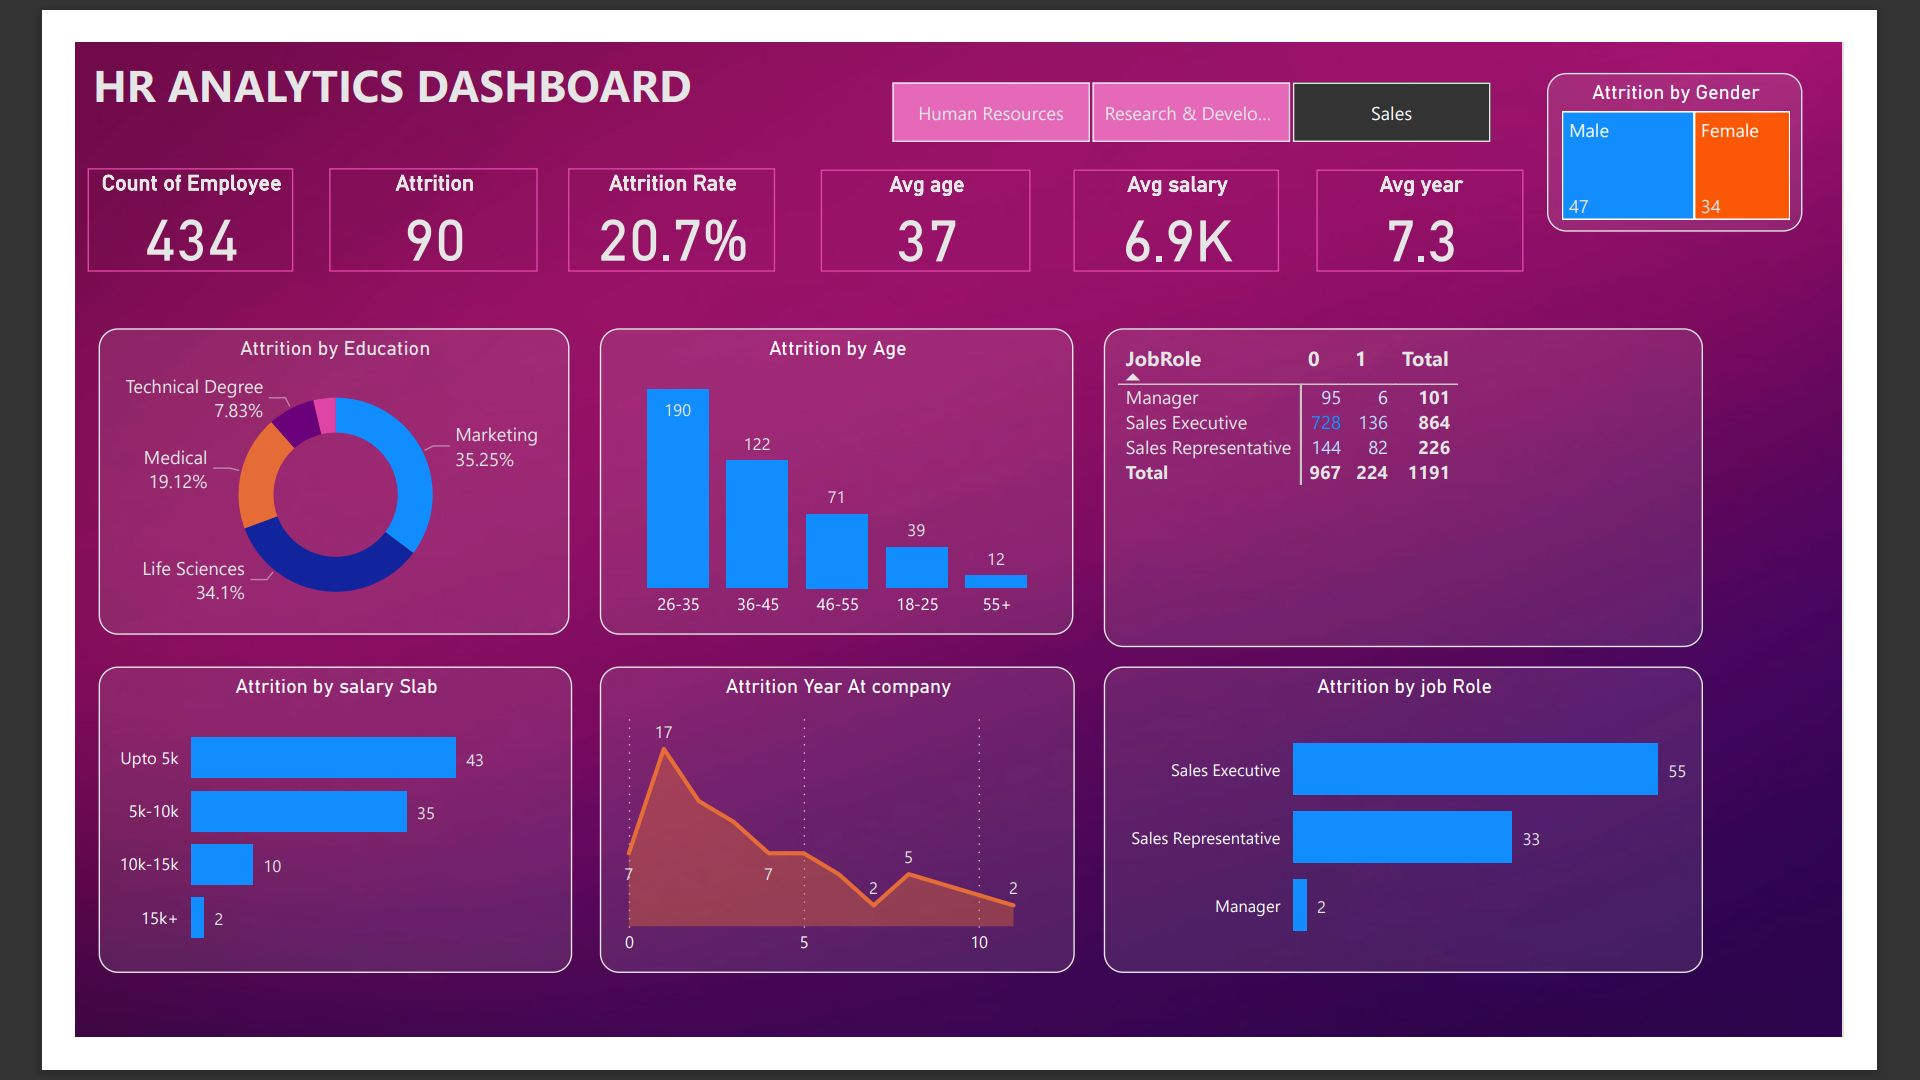

The page's visual inventory and layout, read from the dashboard file:
{"tool":"powerbi","page":{"name":"Page 1","canvas":[1280,720],"ordinal":0},"visuals":[{"type":"card","title":"Count of Employee","fields":{"Values":["Sum(HR_Analytics.EmployeeCount)"]},"box":[8.9,88,149.5,74.8],"z":0},{"type":"card","title":"Attrition","fields":{"Values":["Sum(HR_Analytics.Attrition count)"]},"box":[183.8,88,150.8,74.8],"z":1000},{"type":"card","title":"Attrition Rate","fields":{"Values":["HR_Analytics.AttritionRate"]},"box":[357.5,88,149.5,74.8],"z":2000},{"type":"card","title":"Avg age ","fields":{"Values":["Avg(HR_Analytics.Age)"]},"box":[539.8,88.6,152,73.9],"z":3000},{"type":"donutChart","title":"Attrition by Education","fields":{"Category":["HR_Analytics.EducationField"],"Y":["CountNonNull(HR_Analytics.Attrition)"]},"box":[16.7,203.8,341.3,221.9],"z":4000},{"type":"columnChart","title":"Attrition by Age","fields":{"Y":["CountNonNull(HR_Analytics.Attrition)"],"Category":["HR_Analytics.AgeGroup"]},"box":[379.7,203.8,343.7,221.9],"z":5000},{"type":"card","title":"Avg salary","fields":{"Values":["Avg(HR_Analytics.MonthlyIncome)"]},"box":[723.1,88.6,149.2,73.9],"z":6000},{"type":"card","title":"Avg year","fields":{"Values":["Avg(HR_Analytics.YearsAtCompany)"]},"box":[899.3,88.6,149.2,73.9],"z":7000},{"type":"pivotTable","fields":{"Rows":["HR_Analytics.JobRole"],"Values":["Sum(HR_Analytics.JobSatisfaction)"],"Columns":["HR_Analytics.Attrition count"]},"box":[745.3,203.8,434.2,230.4],"z":7001},{"type":"barChart","title":"Attrition by salary Slab","fields":{"Category":["HR_Analytics.SalarySlab"],"Y":["Sum(HR_Analytics.Attrition count)"]},"box":[16.7,448.6,343.7,221.9],"z":7002},{"type":"barChart","title":"Attrition by job Role","fields":{"Y":["Sum(HR_Analytics.Attrition count)"],"Category":["HR_Analytics.JobRole"]},"box":[745.3,448.6,434.2,221.9],"z":7003},{"type":"areaChart","title":"Attrition Year At company","fields":{"Category":["HR_Analytics.YearsAtCompany"],"Y":["Sum(HR_Analytics.Attrition count)"]},"box":[379.9,448.6,343.7,221.9],"z":7004},{"type":"treemap","title":"Attrition by Gender","fields":{"Group":["HR_Analytics.Gender"],"Values":["Sum(HR_Analytics.Attrition count)"]},"box":[1066.1,18.1,184.5,115.8],"z":7005},{"type":"slicer","fields":{"Values":["HR_Analytics.Department"]},"box":[565.6,18.1,483.6,57.9],"z":7006},{"type":"textbox","box":[8.4,0,455.9,67.5],"z":7007}]}

Visuals, with their boxes in screenshot pixels (x1, y1, x2, y2), scaled from the page's 1280x720 canvas onto the 1920x1080 screenshot:
"Count of Employee" card: Rect(13, 132, 238, 244)
"Attrition" card: Rect(276, 132, 502, 244)
"Attrition Rate" card: Rect(536, 132, 760, 244)
"Avg age " card: Rect(810, 133, 1038, 244)
"Attrition by Education" donutChart: Rect(25, 306, 537, 639)
"Attrition by Age" columnChart: Rect(570, 306, 1085, 639)
"Avg salary" card: Rect(1085, 133, 1308, 244)
"Avg year" card: Rect(1349, 133, 1573, 244)
pivotTable - HR_Analytics.JobRole x Sum(HR_Analytics.JobSatisfaction): Rect(1118, 306, 1769, 651)
"Attrition by salary Slab" barChart: Rect(25, 673, 541, 1006)
"Attrition by job Role" barChart: Rect(1118, 673, 1769, 1006)
"Attrition Year At company" areaChart: Rect(570, 673, 1085, 1006)
"Attrition by Gender" treemap: Rect(1599, 27, 1876, 201)
slicer - HR_Analytics.Department: Rect(848, 27, 1574, 114)
textbox: Rect(13, 0, 696, 101)
